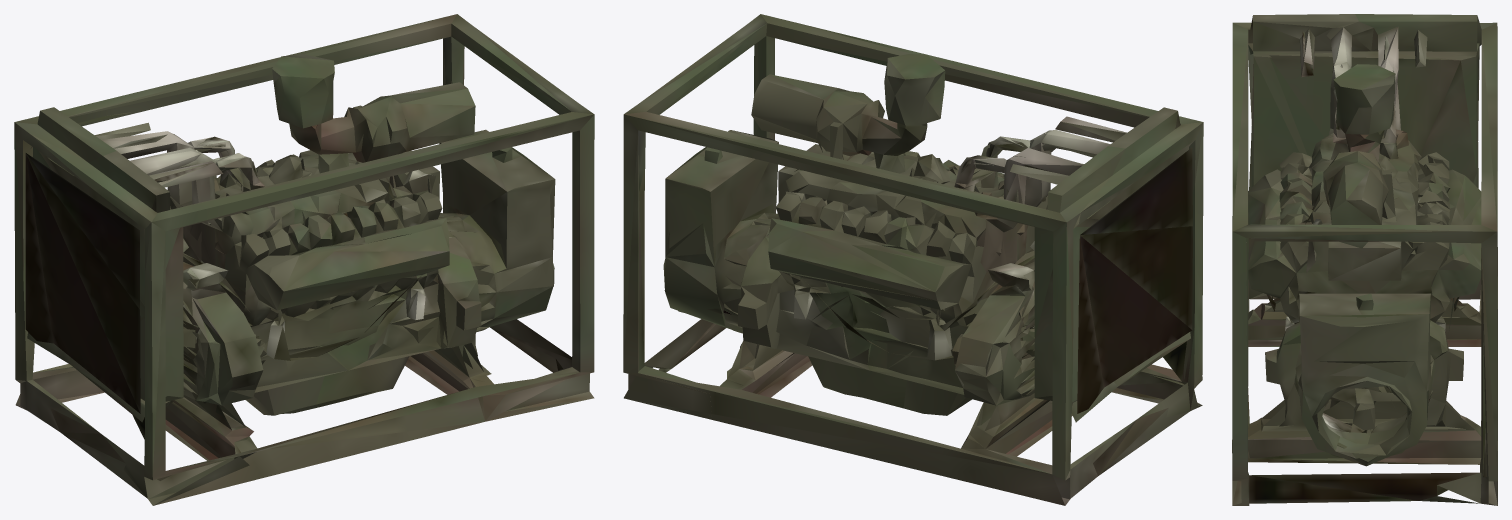
The model's file is generator.glb.
The picture shows the model from 3 angles, left to right: view 1: azimuth 30°, elevation 25°; view 2: azimuth 150°, elevation 25°; view 3: azimuth 270°, elevation 25°; orthographic projection. The views are drawn at different scales.
Parts seen in each view (by area): view 1: Mesh_0; view 2: Mesh_0; view 3: Mesh_0.
Part boxes in pixels (box(x1,y1,x2,y2)): Mesh_0: box(14, 14, 594, 505); Mesh_0: box(623, 14, 1203, 505); Mesh_0: box(1232, 14, 1497, 505).
Size of the model in its own units: 1.9 by 1.36 by 1.01.
1 material, 1 textured.
